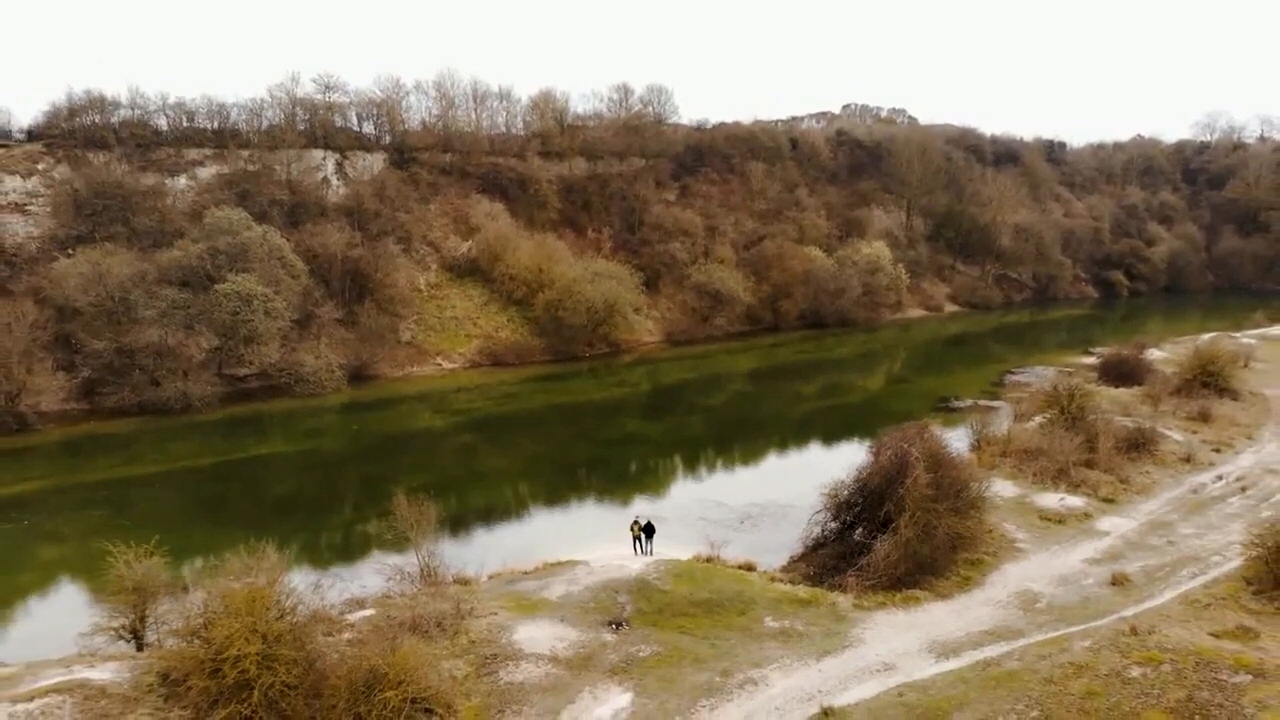insan: (640, 514, 657, 560), (630, 511, 645, 556)
